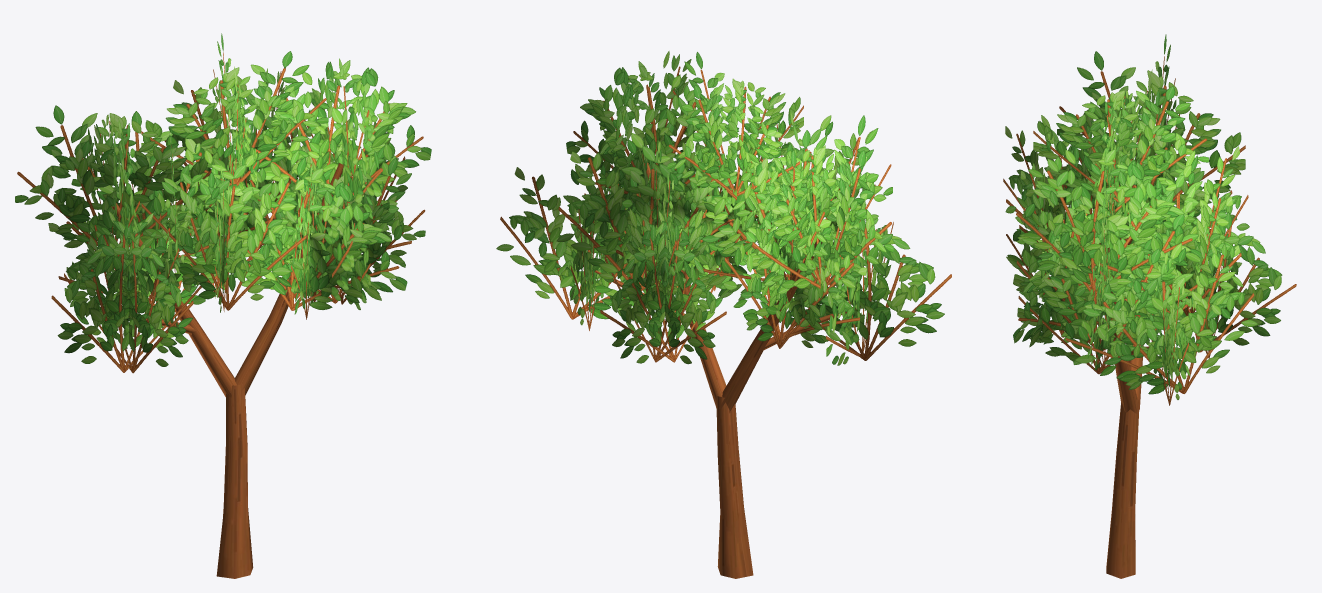
File: leafcard_young_tree.glb
3 renders of one model, left to right at view 1: azimuth 30°, elevation 25°; view 2: azimuth 150°, elevation 25°; view 3: azimuth 270°, elevation 25°, orthographic. The views are drawn at different scales.
Visible parts, largest first — view 1: leafcard_young_tree; view 2: leafcard_young_tree; view 3: leafcard_young_tree.
Boxes of the visible parts, left/top/right/bottom form: leafcard_young_tree: left=15, top=33, right=431, bottom=578; leafcard_young_tree: left=496, top=51, right=951, bottom=578; leafcard_young_tree: left=1003, top=34, right=1296, bottom=578.
Size of the model in its own units: 4.19 by 4.75 by 2.79.
2 materials, 2 textured.
